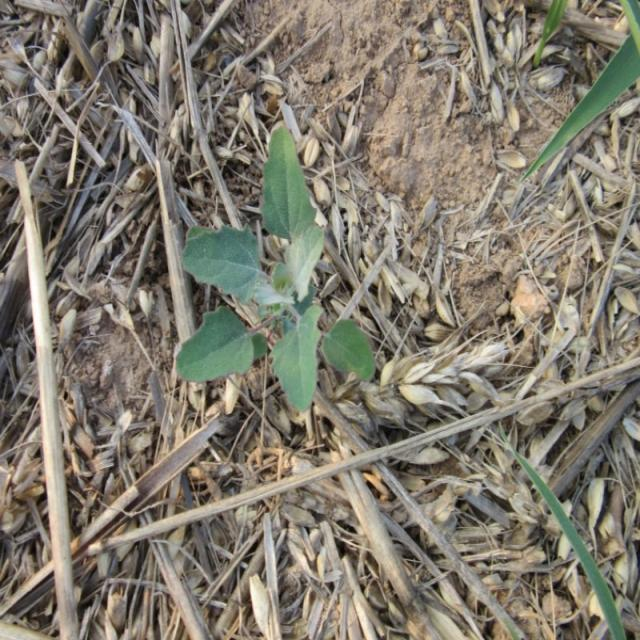ca: (180, 128, 378, 419)
